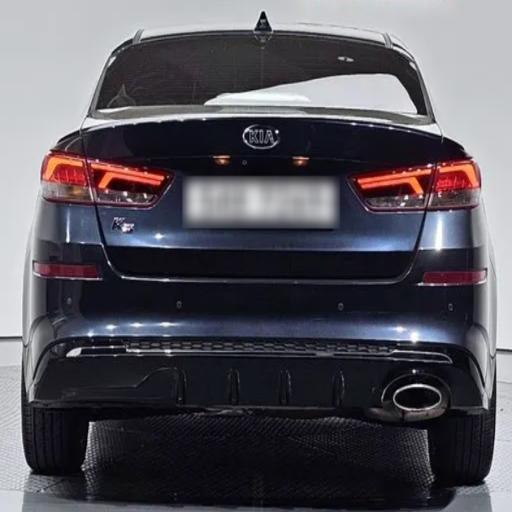normal: (17, 22, 505, 498)
